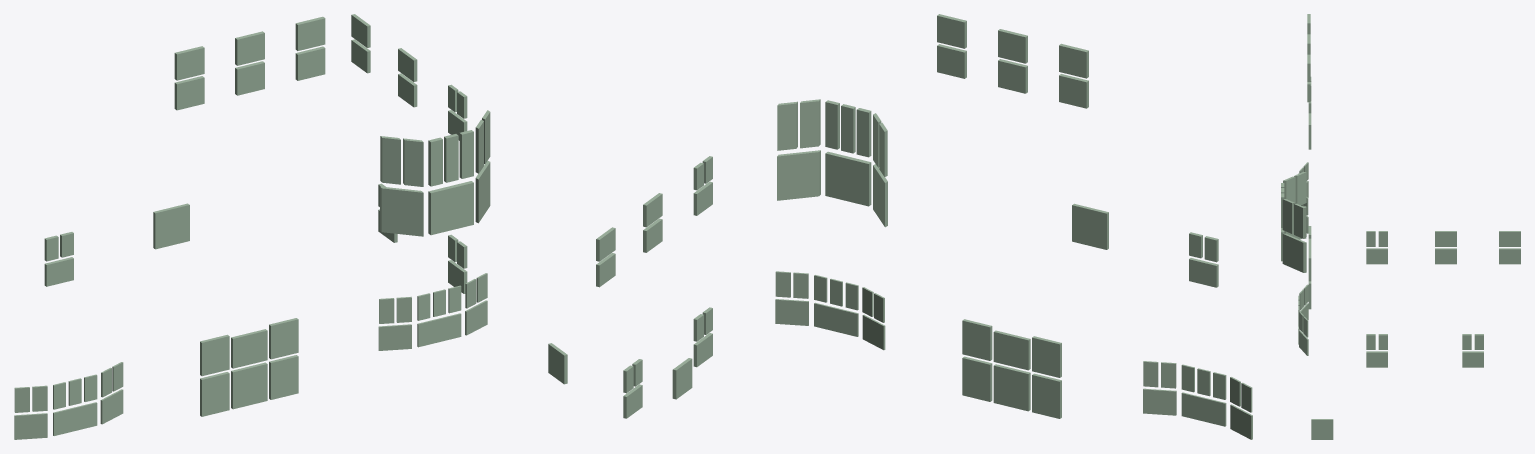
The model's file is Ventanas.obj.
3 renders of one model, left to right at view 1: azimuth 30°, elevation 25°; view 2: azimuth 150°, elevation 25°; view 3: azimuth 270°, elevation 25°, orthographic. The views are drawn at different scales.
Visible parts, largest first — view 1: polySurface1271; view 2: polySurface1271; view 3: polySurface1271.
Part boxes in pixels (box(x1,y1,x2,y2)): polySurface1271: box(14, 14, 567, 439); polySurface1271: box(596, 14, 1252, 439); polySurface1271: box(1281, 14, 1520, 439).
Bounding box in the file's own units: 32.2 × 23.65 × 17.5.
Materials: 1 (1 with a texture image).
